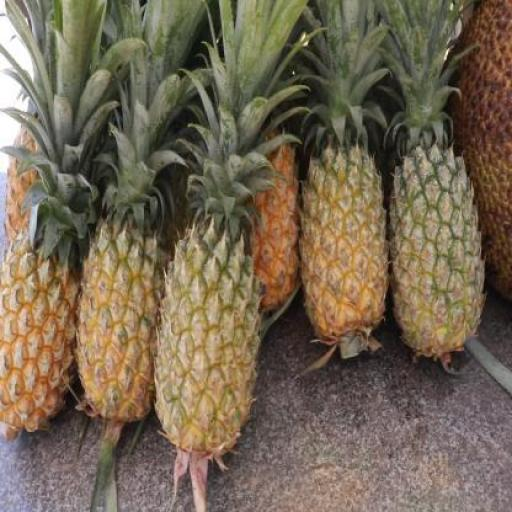------------------------------: (153, 230, 256, 452)
Pineapple - v8 v1: (73, 224, 165, 422), (300, 150, 386, 345), (0, 238, 78, 440)
